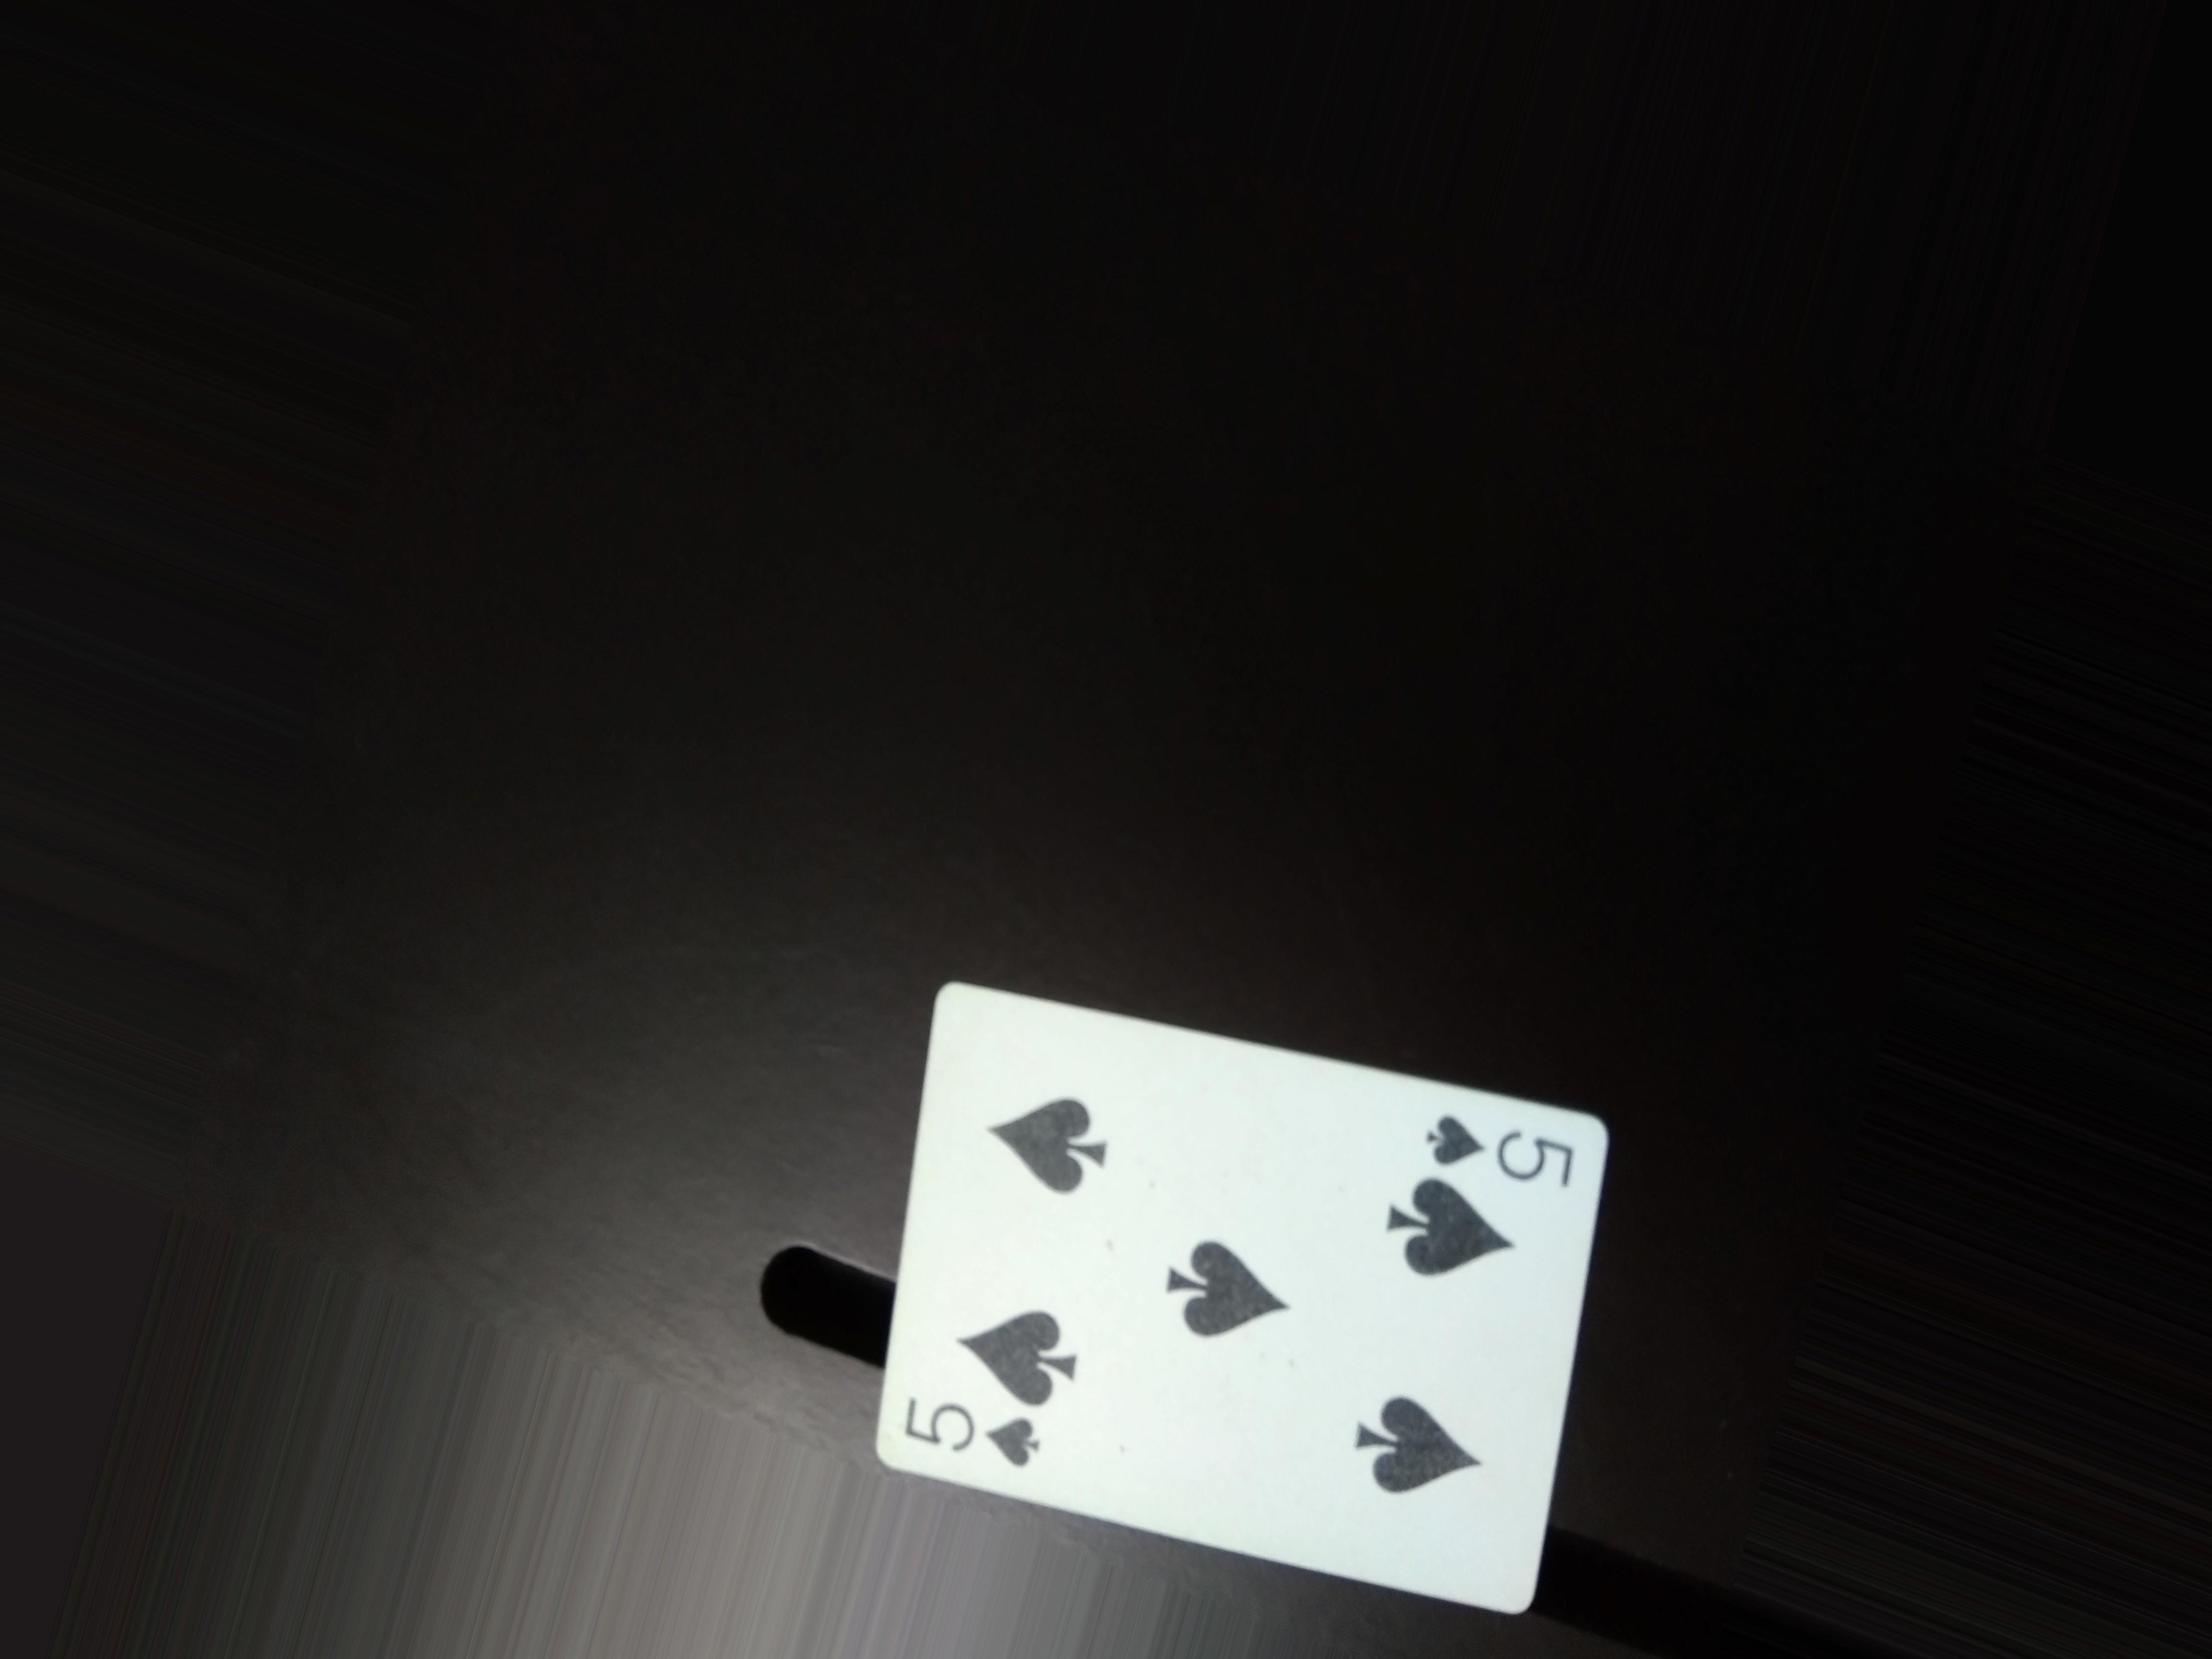5S: (887, 1385, 1068, 1483)
